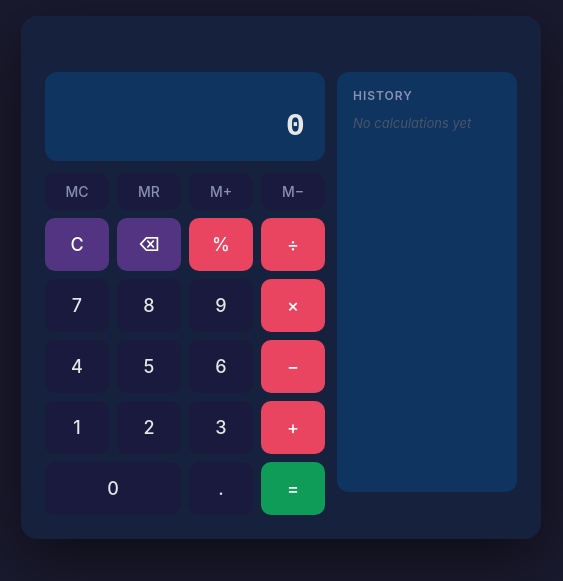
Calculator › adds entry to history after calculation
What coordinates should you click on to do the following:
click the button "2"
I would click on:
 (149, 427)
Its box is [117,400,181,454].
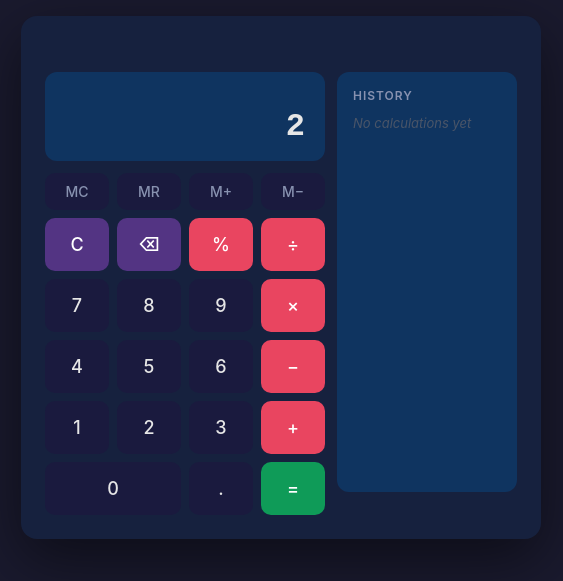
What coordinates should you click on to do the following:
click the button "+"
I would click on:
 (293, 427)
Its box is [261,400,325,454].
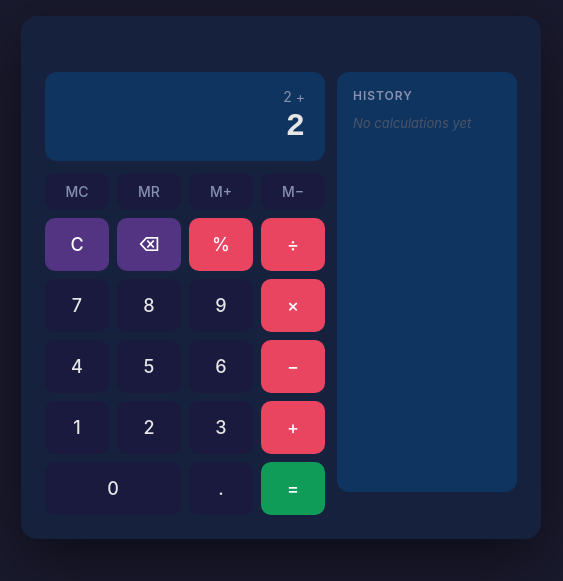
What coordinates should you click on to do the following:
click the button "3"
I would click on:
 (221, 427)
Its box is [189,400,253,454].
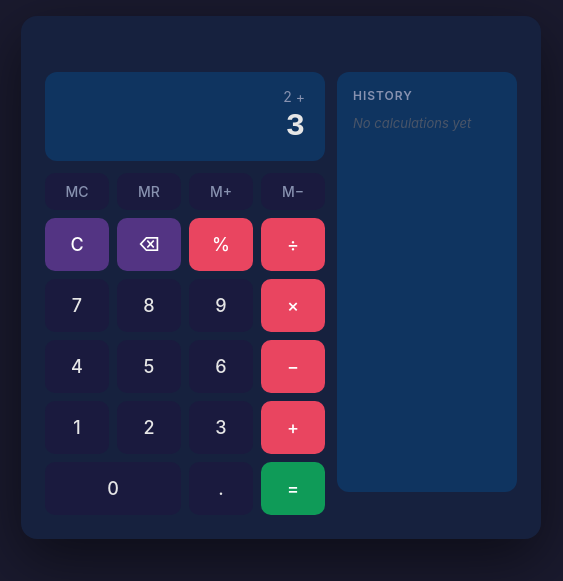
What coordinates should you click on to do the following:
click the button "="
I would click on:
 (293, 488)
Its box is [261,462,325,514].
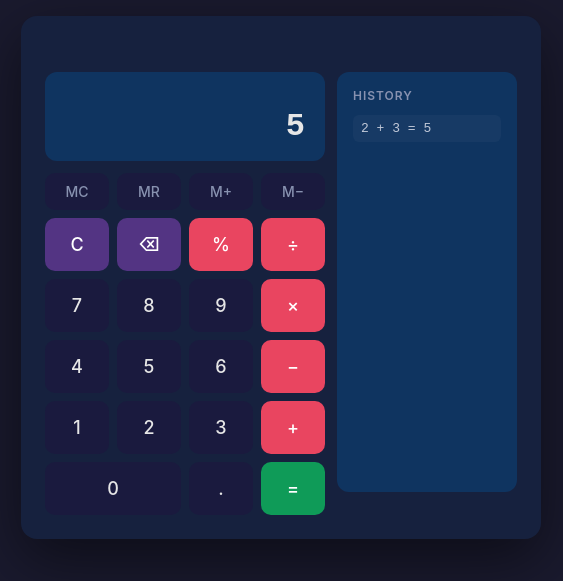
Expected: the text "2 + 3 = 5" is shown, [353,114,501,142]
